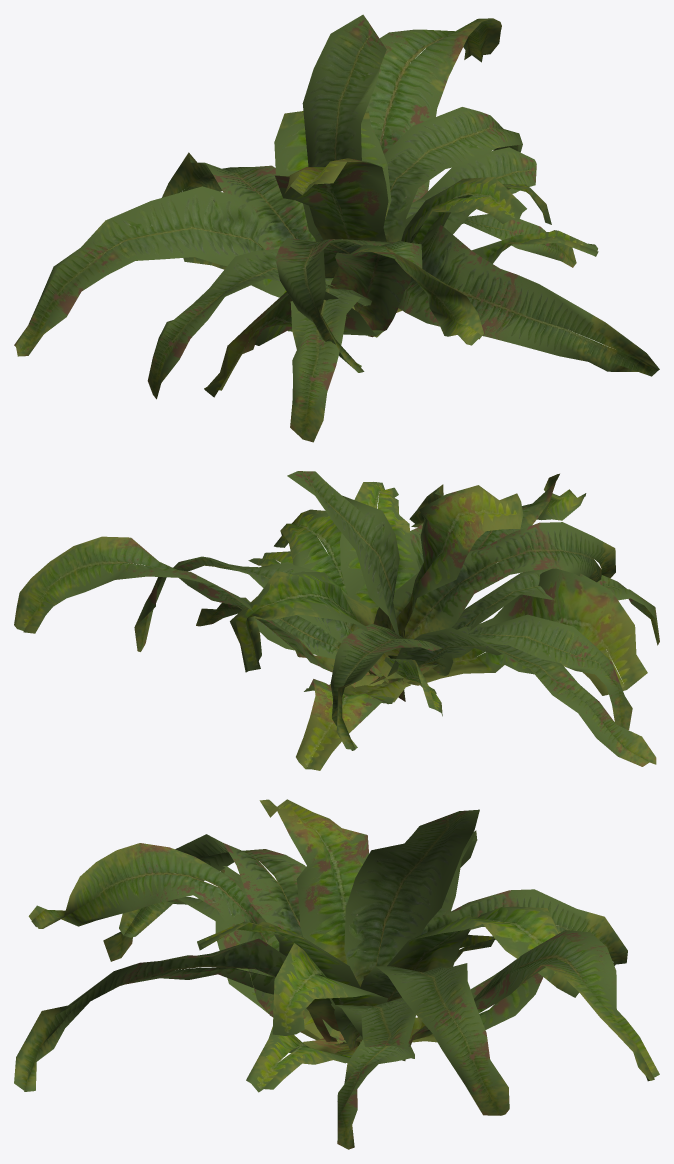
3 views of the same model, one above another, from view 1: azimuth 30°, elevation 25°; view 2: azimuth 150°, elevation 25°; view 3: azimuth 270°, elevation 25° (orthographic). The views are drawn at different scales.
Visible parts, largest first — view 1: fern_02_b; view 2: fern_02_b; view 3: fern_02_b.
Part boxes in pixels (bbox=[...]): fern_02_b: bbox=[14, 14, 659, 442]; fern_02_b: bbox=[14, 471, 659, 770]; fern_02_b: bbox=[14, 799, 659, 1149].
Size of the model in its own units: 0.9903 by 0.4261 by 0.895.
Materials: 1 (1 with a texture image).
